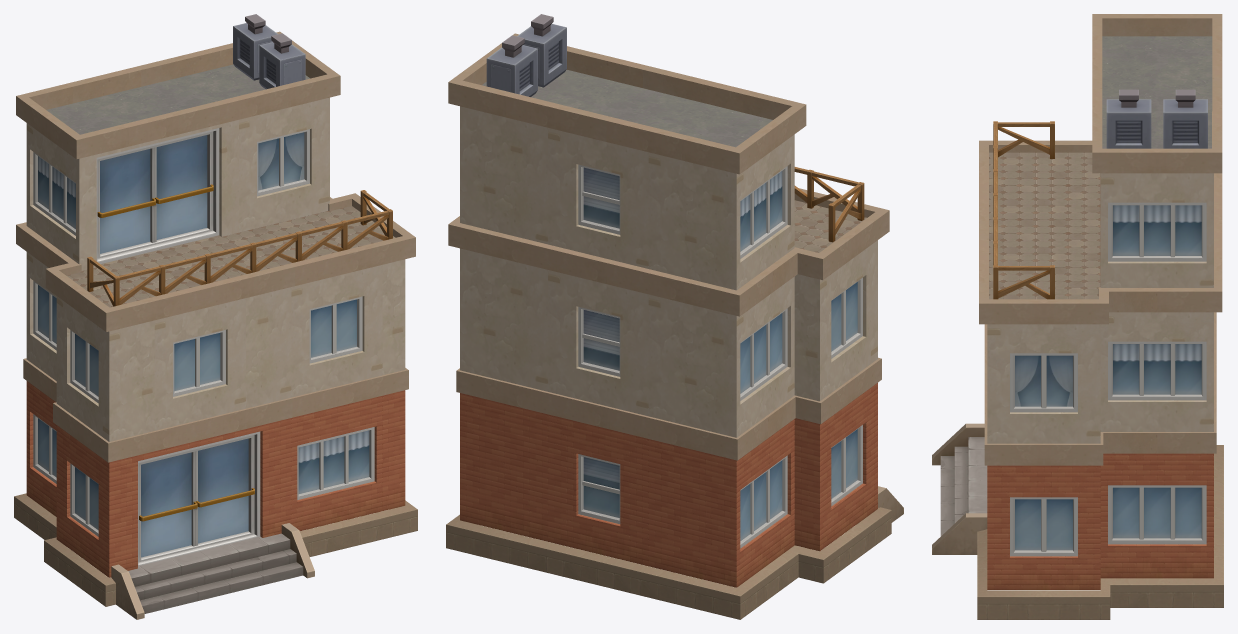
The model's file is Building_1-transformed.glb.
3 views of the same model, side by side, from view 1: azimuth 30°, elevation 25°; view 2: azimuth 150°, elevation 25°; view 3: azimuth 270°, elevation 25° (orthographic). The views are drawn at different scales.
Parts seen in each view (by area): view 1: Building_1_walls_1; view 2: Building_1_walls_1; view 3: Building_1_walls_1.
Boxes of the visible parts, <box> form: Building_1_walls_1: <box>14,14,417,619</box>; Building_1_walls_1: <box>446,14,903,619</box>; Building_1_walls_1: <box>932,14,1223,619</box>.
Size of the model in its own units: 6.85 by 9.6 by 5.15.
11 materials, 11 textured.
